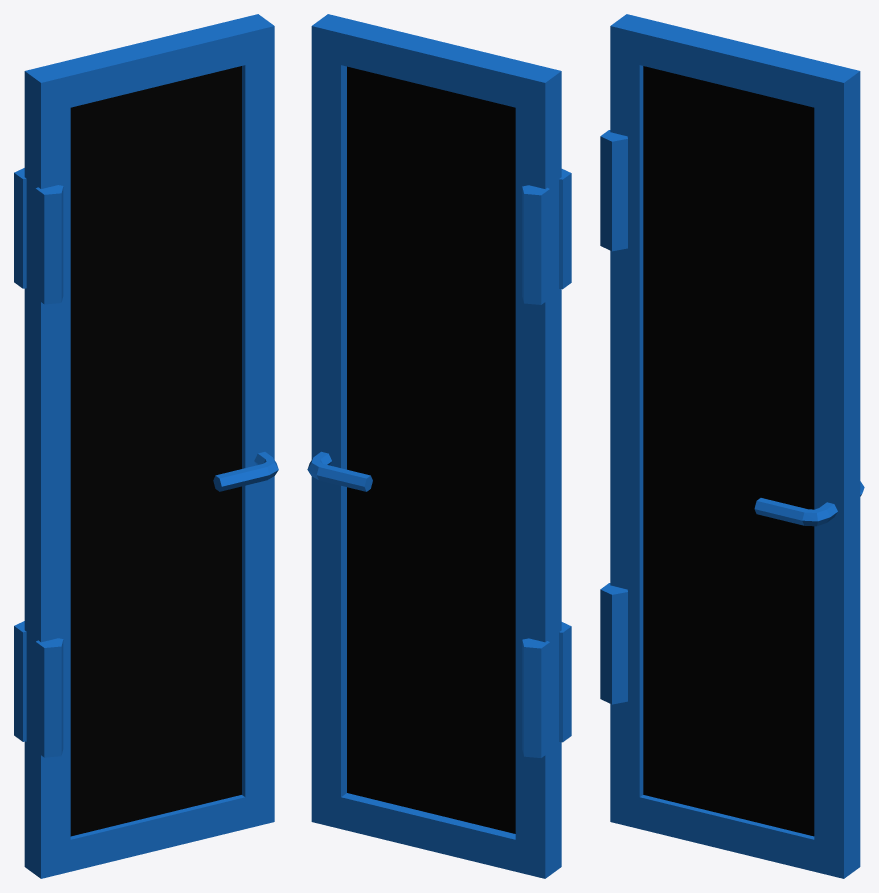
Rendered from SM_door.fbx.
3 views of the same model, side by side, from view 1: azimuth 30°, elevation 25°; view 2: azimuth 150°, elevation 25°; view 3: azimuth 330°, elevation 25° (orthographic).
Visible parts, largest first — view 1: Cube_6; view 2: Cube_6; view 3: Cube_6.
Boxes of the visible parts, x1,y1,x2,y2 form: Cube_6: (14, 14, 278, 878); Cube_6: (307, 14, 571, 878); Cube_6: (600, 14, 864, 878).
Bounding box in the file's own units: 55.96 × 180 × 21.69.
